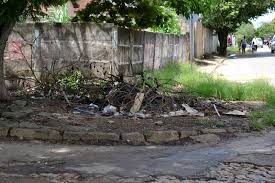rubble: (50, 78, 235, 121)
